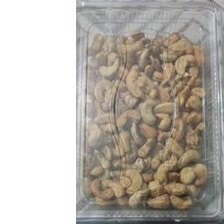plastic_box: (75, 0, 224, 224)
